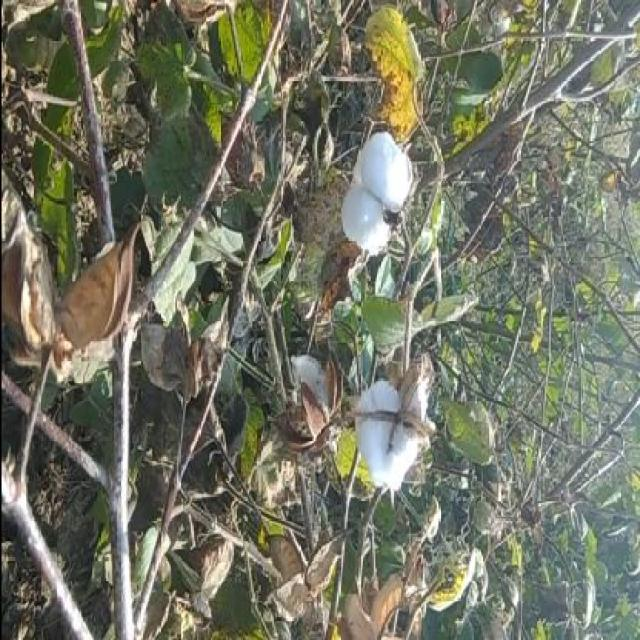cotton_ready: (327, 328, 441, 517), (321, 119, 425, 273)
